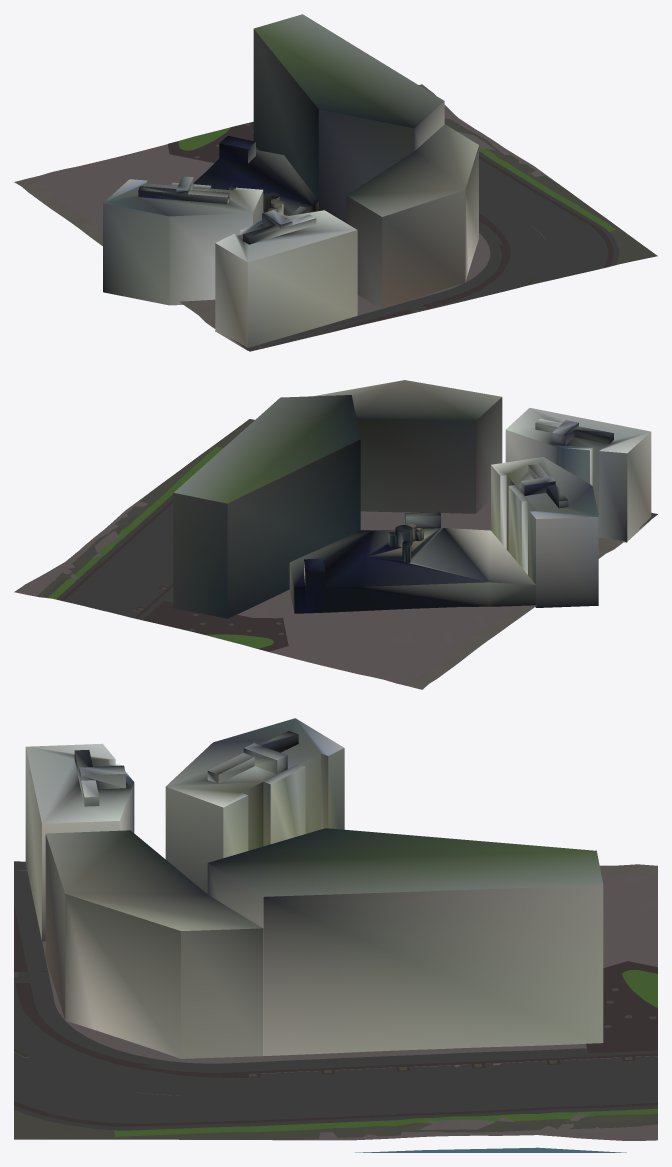
3 views of the same model, one above another, from view 1: azimuth 30°, elevation 25°; view 2: azimuth 150°, elevation 25°; view 3: azimuth 270°, elevation 25° (orthographic). The views are drawn at different scales.
Visible parts, largest first — view 1: c_m14_p07; view 2: c_m14_p07; view 3: c_m14_p07.
Part boxes in pixels (<box>): c_m14_p07: <box>14,14,657,351</box>; c_m14_p07: <box>14,380,657,689</box>; c_m14_p07: <box>14,718,657,1152</box>.
Size of the model in its own units: 142 by 38.3 by 128.
